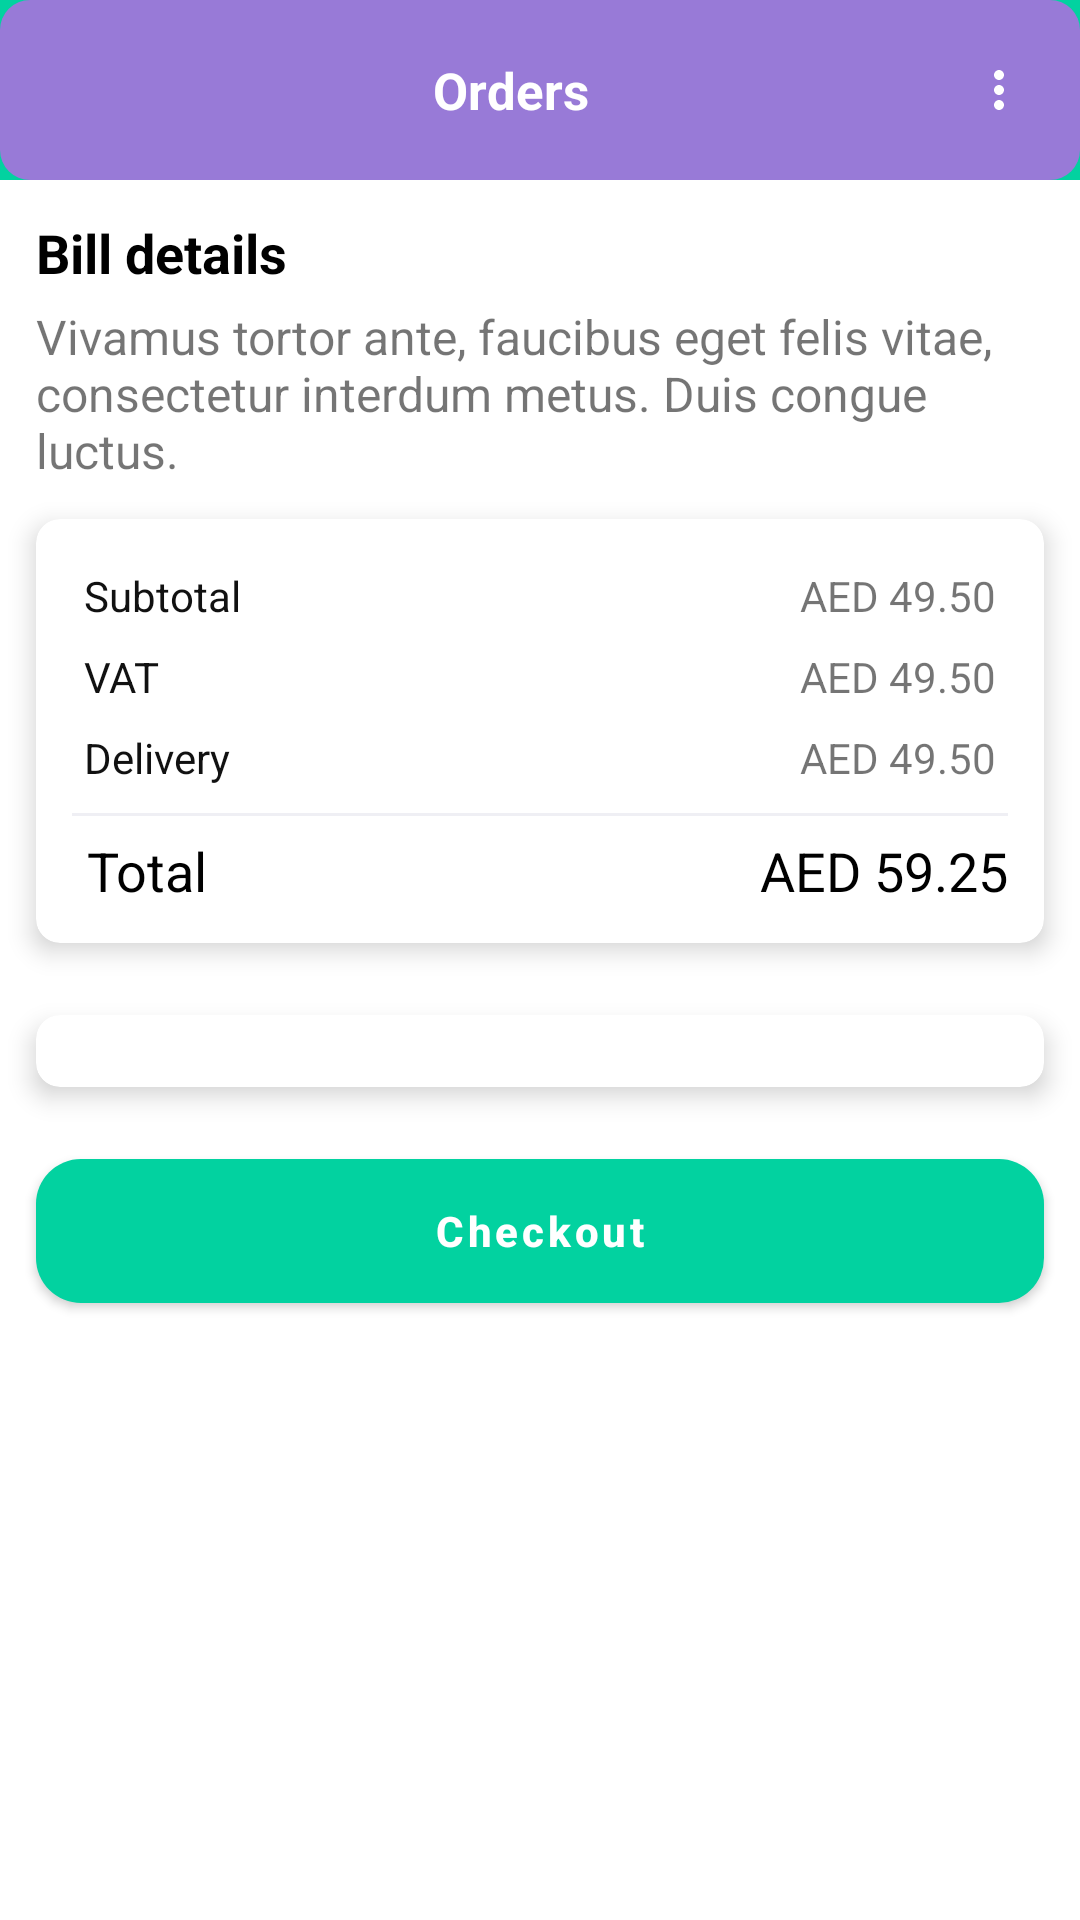

Icons on this 1080 x 1920 Android screen, each with the point to tap as point (x, y):
more vert: point (999, 90)
